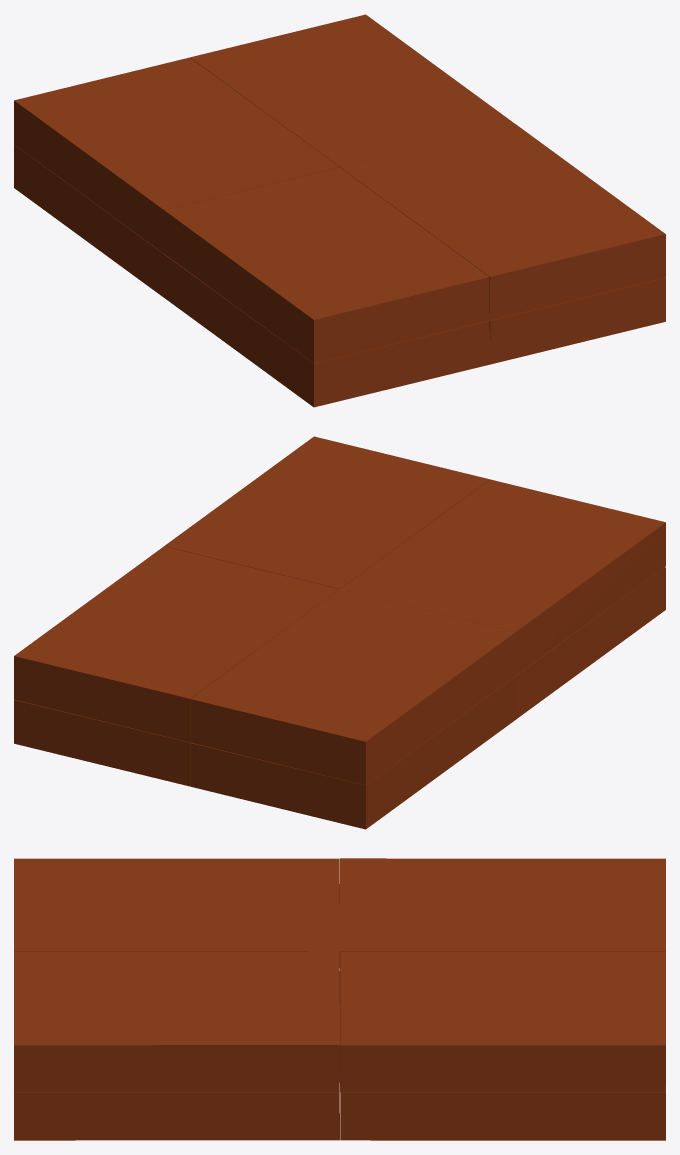
Rendered from PlatformTest_Parts.fbx.
3 views of the same model, one above another, from view 1: azimuth 30°, elevation 25°; view 2: azimuth 150°, elevation 25°; view 3: azimuth 270°, elevation 25° (orthographic). The views are drawn at different scales.
Parts seen in each view (by area): view 1: Platform_Test_cell.001, Platform_Test_cell.005, Platform_Test_cell.003, Platform_Test_cell.007, Platform_Test_cell, Platform_Test_cell.004, Platform_Test_cell.002; view 2: Platform_Test_cell.003, Platform_Test_cell.007, Platform_Test_cell.001, Platform_Test_cell.005, Platform_Test_cell.002, Platform_Test_cell.006, Platform_Test_cell; view 3: Platform_Test_cell.005, Platform_Test_cell.007, Platform_Test_cell.001, Platform_Test_cell.003, Platform_Test_cell.006, Platform_Test_cell.004.
Boxes of the visible parts, <box> form: Platform_Test_cell.001: <box>164,167,489,363</box>; Platform_Test_cell.005: <box>340,124,665,320</box>; Platform_Test_cell.003: <box>14,57,339,253</box>; Platform_Test_cell.007: <box>190,14,515,166</box>; Platform_Test_cell: <box>164,254,489,407</box>; Platform_Test_cell.004: <box>489,278,665,364</box>; Platform_Test_cell.002: <box>14,144,164,297</box>; Platform_Test_cell.003: <box>190,589,515,785</box>; Platform_Test_cell.007: <box>14,546,339,742</box>; Platform_Test_cell.001: <box>340,479,665,675</box>; Platform_Test_cell.005: <box>164,436,489,588</box>; Platform_Test_cell.002: <box>190,676,515,829</box>; Platform_Test_cell.006: <box>14,699,190,786</box>; Platform_Test_cell: <box>516,566,665,719</box>; Platform_Test_cell.005: <box>14,952,339,1092</box>; Platform_Test_cell.007: <box>340,952,665,1092</box>; Platform_Test_cell.001: <box>14,858,339,967</box>; Platform_Test_cell.003: <box>340,858,665,952</box>; Platform_Test_cell.006: <box>340,1085,665,1140</box>; Platform_Test_cell.004: <box>14,1092,339,1140</box>.
Bounding box in the file's own units: 210 × 50.08 × 310.
Materials: 1 (1 with a texture image).
